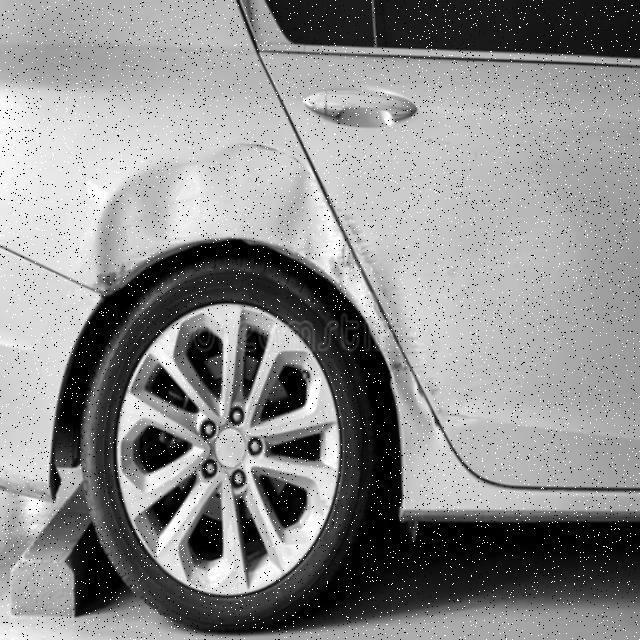doorouter-dent: (313, 61, 640, 395)
quaterpanel-dent: (0, 128, 316, 401)
